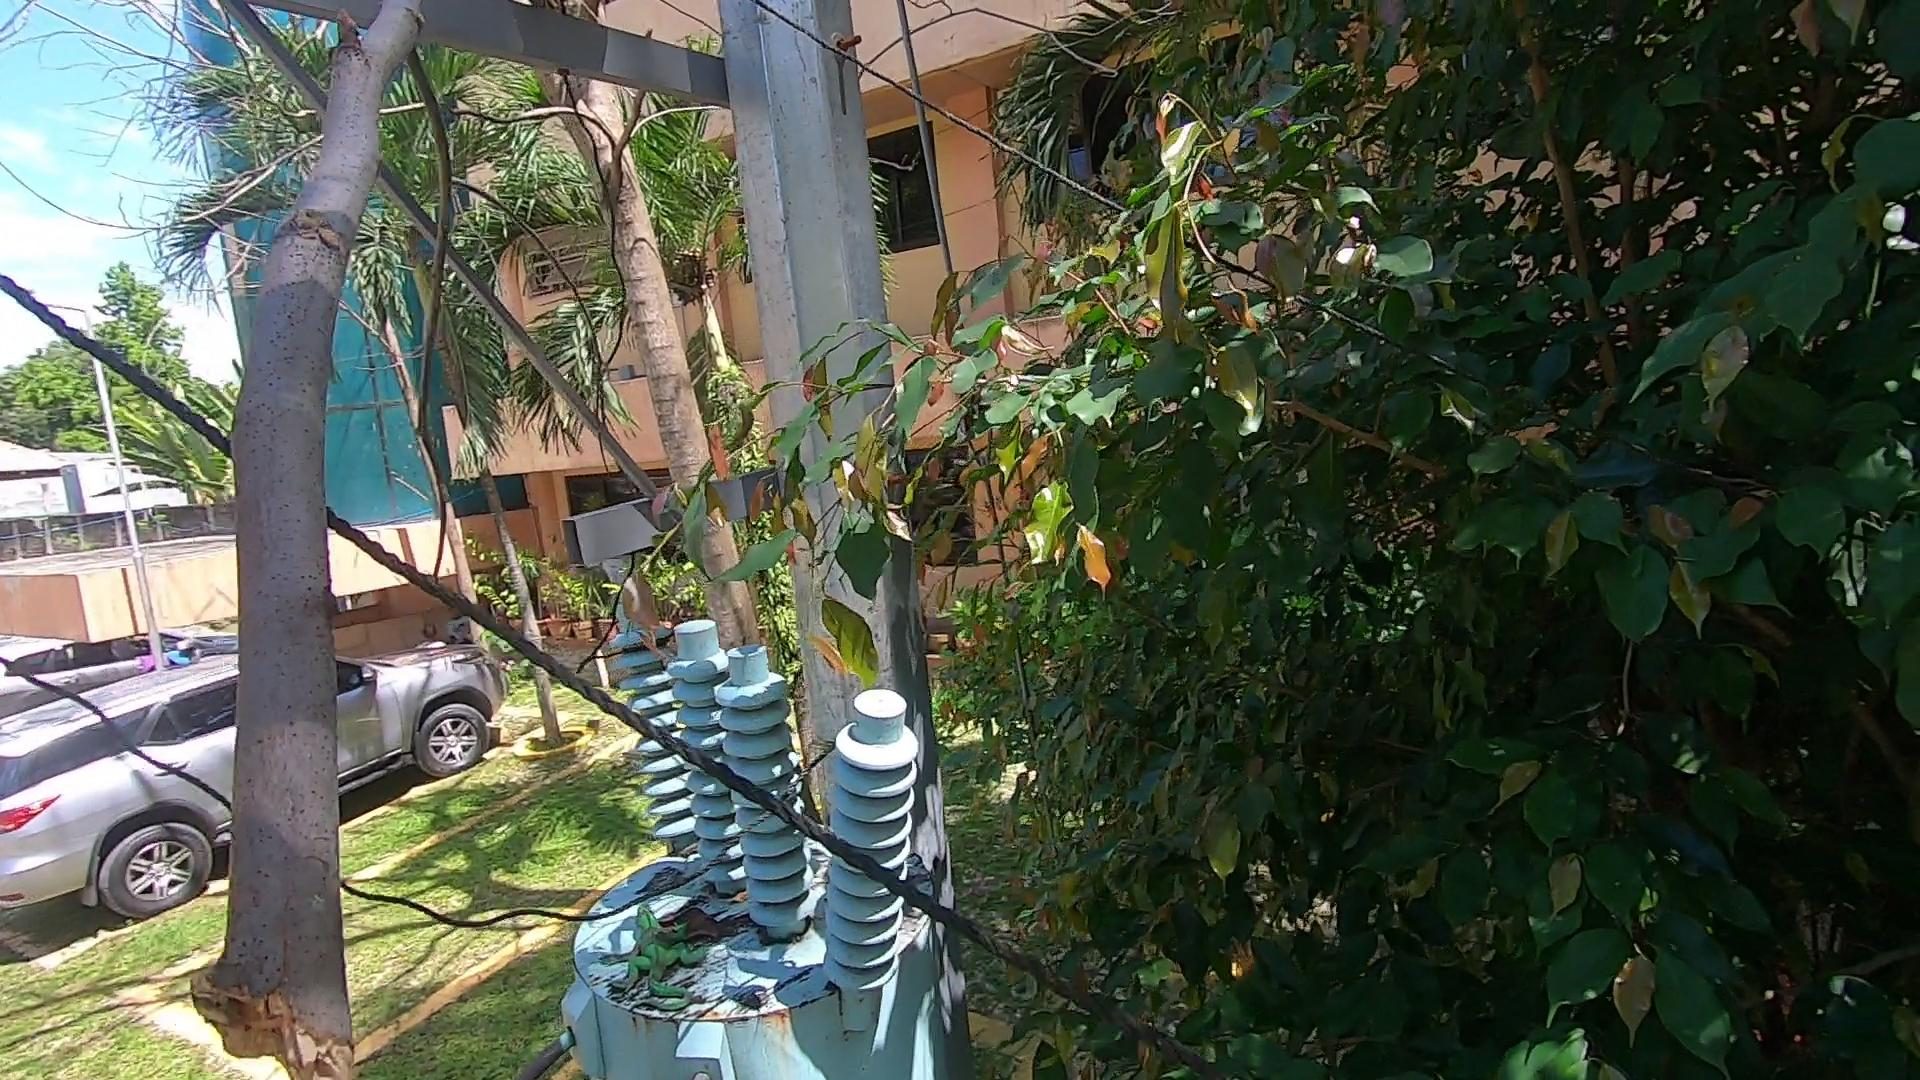branch with leaves: (574, 386, 976, 723), (659, 886, 749, 955)
tree branch: (158, 1, 529, 1063)
